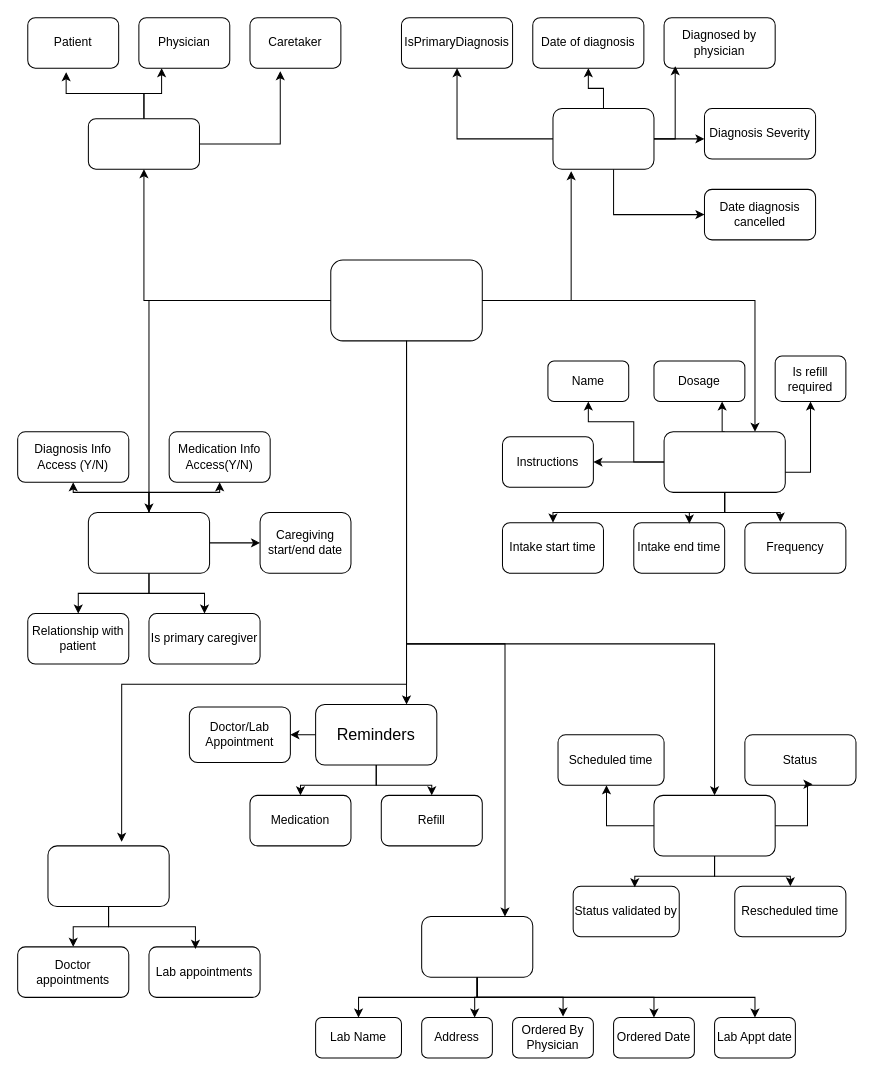
Some shapes in this 874 by 1076 pixel diagram are drawn without their labels. The centre of each missing label's shape, as x and y in pixels:
"Appointments" goes at point 108,875.
"Diagnosis" goes at point 603,138.
"Lab Order Details" goes at point 477,946.
"Medication Reminders" goes at point 714,825.
"Medications" goes at point 724,461.
"Patient Caregiver" goes at point 148,542.
"Senior Care Data Model" goes at point 406,300.
"Users" goes at point 143,143.
